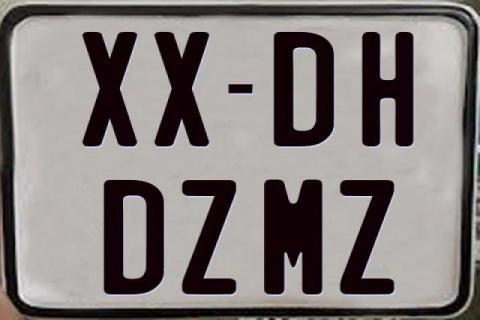D: (102, 179, 165, 297), (273, 32, 336, 147)
H: (360, 30, 415, 146)
M: (264, 177, 328, 297)
X: (81, 32, 141, 150), (154, 31, 213, 149)
Z: (181, 179, 240, 293), (338, 178, 394, 294)
